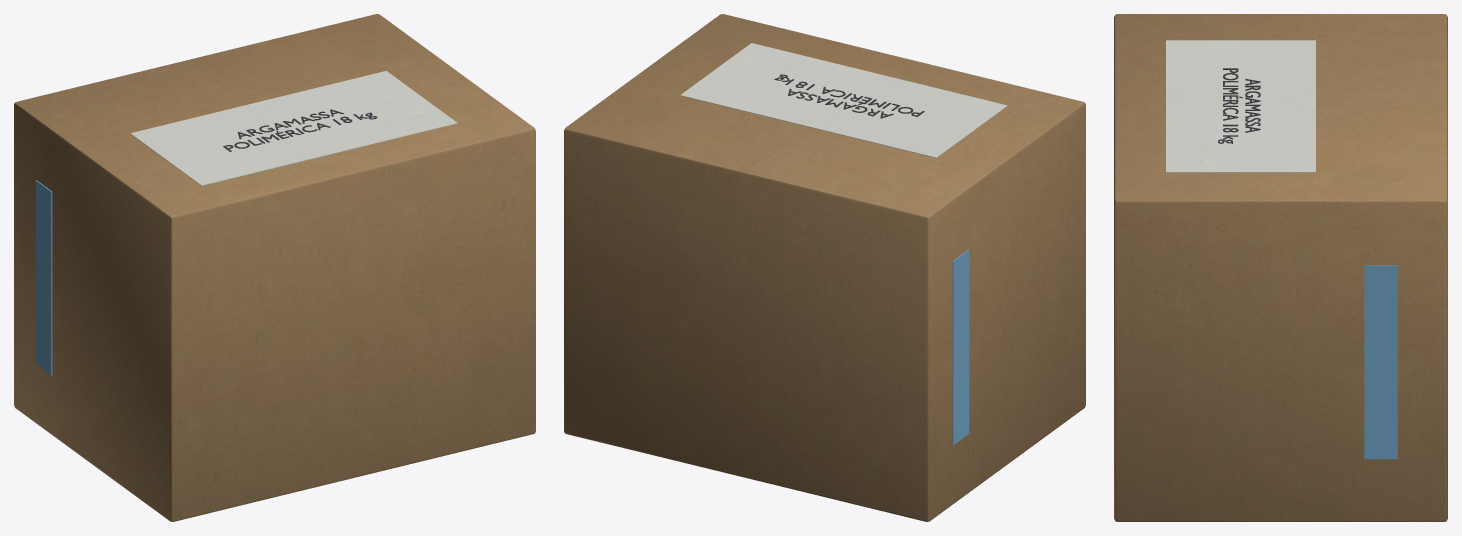
Rendered from IMP-POL-001.glb.
3 renders of one model, left to right at view 1: azimuth 30°, elevation 25°; view 2: azimuth 150°, elevation 25°; view 3: azimuth 270°, elevation 25°, orthographic. The views are drawn at different scales.
Parts seen in each view (by area): view 1: IMP-POL-001_caixa, IMP-POL-001_etiqueta, IMP-POL-001_faixa, IMP-POL-001_texto; view 2: IMP-POL-001_caixa, IMP-POL-001_etiqueta, IMP-POL-001_faixa, IMP-POL-001_texto; view 3: IMP-POL-001_caixa, IMP-POL-001_etiqueta, IMP-POL-001_faixa, IMP-POL-001_texto.
Part boxes in pixels (x1=…): IMP-POL-001_caixa: x1=14, y1=14, x2=535, y2=521; IMP-POL-001_etiqueta: x1=130, y1=71, x2=457, y2=185; IMP-POL-001_faixa: x1=35, y1=180, x2=52, y2=375; IMP-POL-001_texto: x1=223, y1=109, x2=377, y2=151; IMP-POL-001_caixa: x1=564, y1=14, x2=1085, y2=521; IMP-POL-001_etiqueta: x1=680, y1=43, x2=1007, y2=157; IMP-POL-001_faixa: x1=952, y1=249, x2=969, y2=445; IMP-POL-001_texto: x1=774, y1=74, x2=924, y2=118; IMP-POL-001_caixa: x1=1114, y1=14, x2=1447, y2=521; IMP-POL-001_etiqueta: x1=1166, y1=40, x2=1315, y2=172; IMP-POL-001_faixa: x1=1364, y1=265, x2=1397, y2=459; IMP-POL-001_texto: x1=1218, y1=68, x2=1260, y2=143.
Size of the model in its own units: 0.402 by 0.3211 by 0.3.
4 materials, 2 textured.
